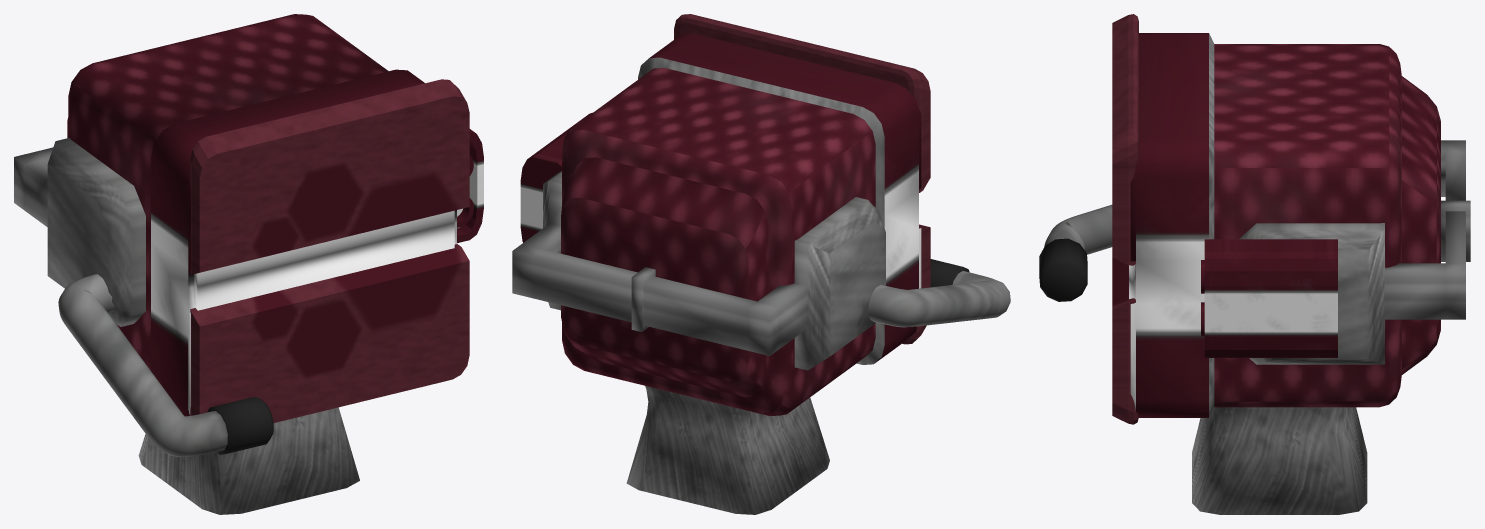
Rendered from Robot 8 head.fbx.
3 views of the same model, side by side, from view 1: azimuth 30°, elevation 25°; view 2: azimuth 150°, elevation 25°; view 3: azimuth 270°, elevation 25° (orthographic). The views are drawn at different scales.
Visible parts, largest first — view 1: Cube.005, Cube.014; view 2: Cube.005, Cube.014; view 3: Cube.005, Cube.014.
Part boxes in pixels (x1,y1,x2,y2): Cube.005: (14, 14, 483, 456); Cube.014: (138, 407, 359, 514); Cube.005: (512, 14, 1010, 415); Cube.014: (626, 386, 829, 514); Cube.005: (1039, 14, 1470, 424); Cube.014: (1192, 407, 1367, 514).
Bounding box in the file's own units: 225 × 224 × 216.
